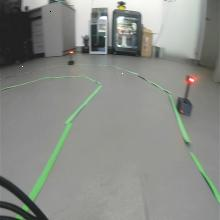red: (185, 75, 195, 84)
